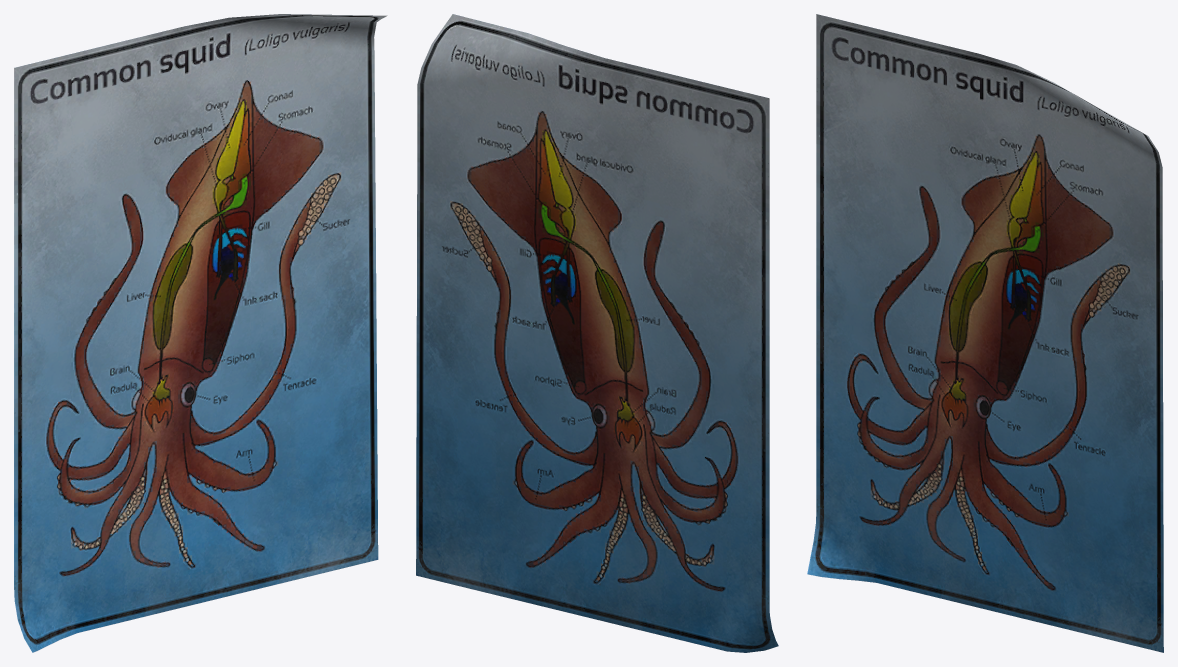
File: posters_biolab_squid.dae
3 renders of one model, left to right at view 1: azimuth 30°, elevation 25°; view 2: azimuth 150°, elevation 25°; view 3: azimuth 330°, elevation 25°, orthographic. The views are drawn at different scales.
Parts seen in each view (by area): view 1: squid; view 2: squid; view 3: squid.
Boxes of the visible parts, x1,y1,x2,y2 form: squid: (14,14,387,652); squid: (416,14,778,652); squid: (807,14,1163,652).
Bounding box in the file's own units: 0.6562 × 1 × 0.0776.
